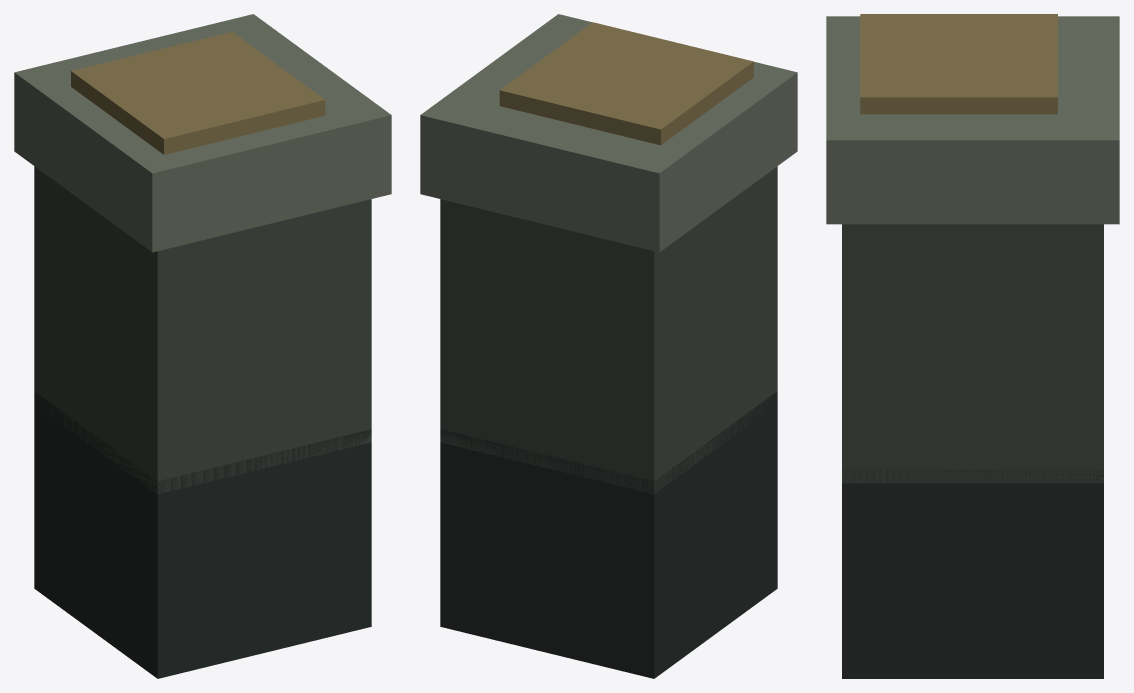
The model's file is CMU3DPlatformCornerSmall.glb.
3 views of the same model, side by side, from view 1: azimuth 30°, elevation 25°; view 2: azimuth 150°, elevation 25°; view 3: azimuth 270°, elevation 25° (orthographic). The views are drawn at different scales.
Visible parts, largest first — view 1: corner fascia, northwest corner foot, corner cap, inset corner mark; view 2: corner fascia, northwest corner foot, corner cap, inset corner mark; view 3: corner fascia, northwest corner foot, corner cap, inset corner mark.
Part boxes in pixels (x1,y1,x2,y2): corner fascia: (34, 166, 371, 494); northwest corner foot: (34, 391, 371, 678); corner cap: (14, 14, 391, 252); inset corner mark: (71, 32, 325, 154); corner fascia: (440, 166, 777, 494); northwest corner foot: (440, 391, 777, 678); corner cap: (420, 14, 797, 252); inset corner mark: (499, 22, 753, 145); corner fascia: (842, 224, 1103, 483); northwest corner foot: (842, 469, 1103, 678); corner cap: (826, 16, 1119, 224); inset corner mark: (860, 14, 1057, 114).
Bounding box in the file's own units: 0.19 × 0.402 × 0.19.
